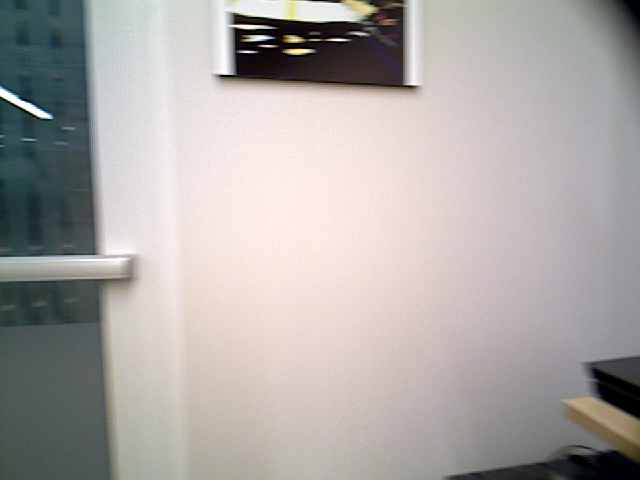painting3: (216, 1, 419, 86)
